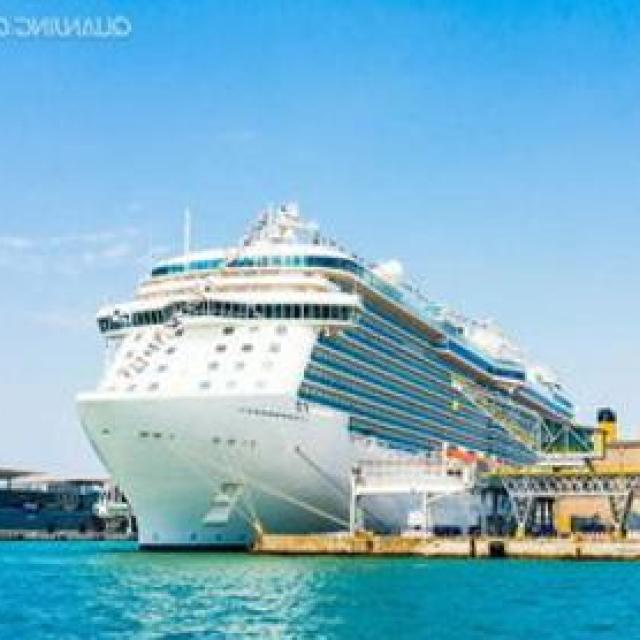passenger ship: (72, 214, 569, 550)
